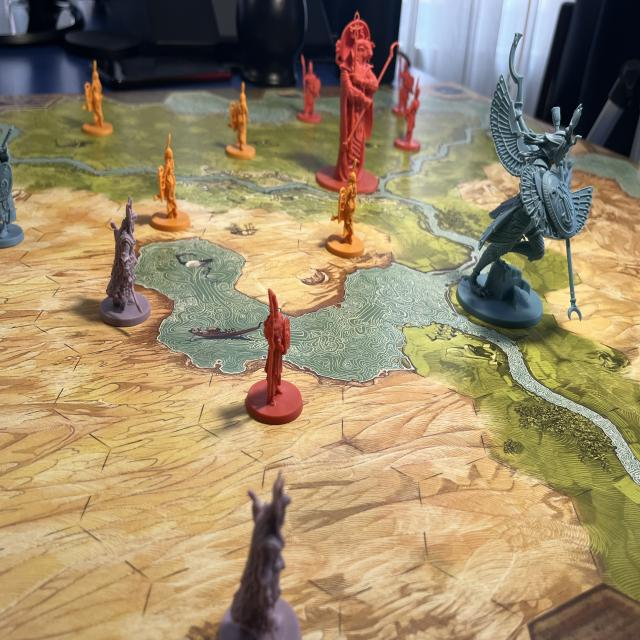amon: (311, 1, 404, 189)
amon_follower: (235, 283, 307, 427), (394, 68, 432, 163), (291, 48, 328, 138), (393, 46, 413, 130)
isis: (452, 19, 598, 337)
